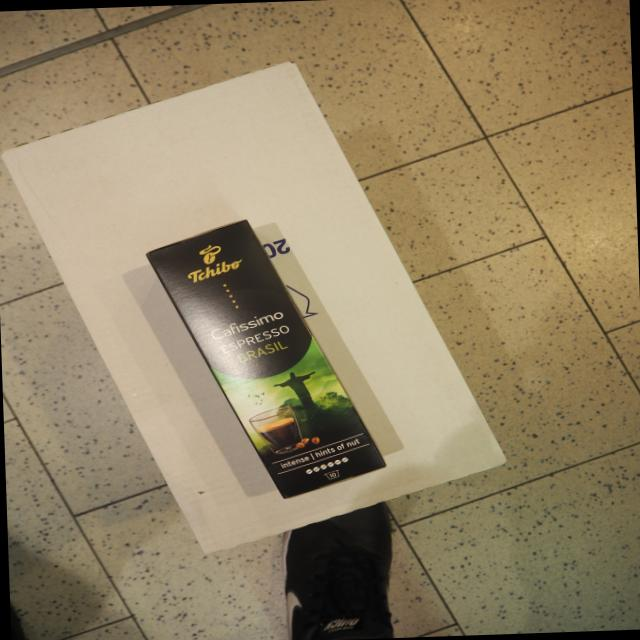Simo Es Brazil: (140, 216, 391, 505)
